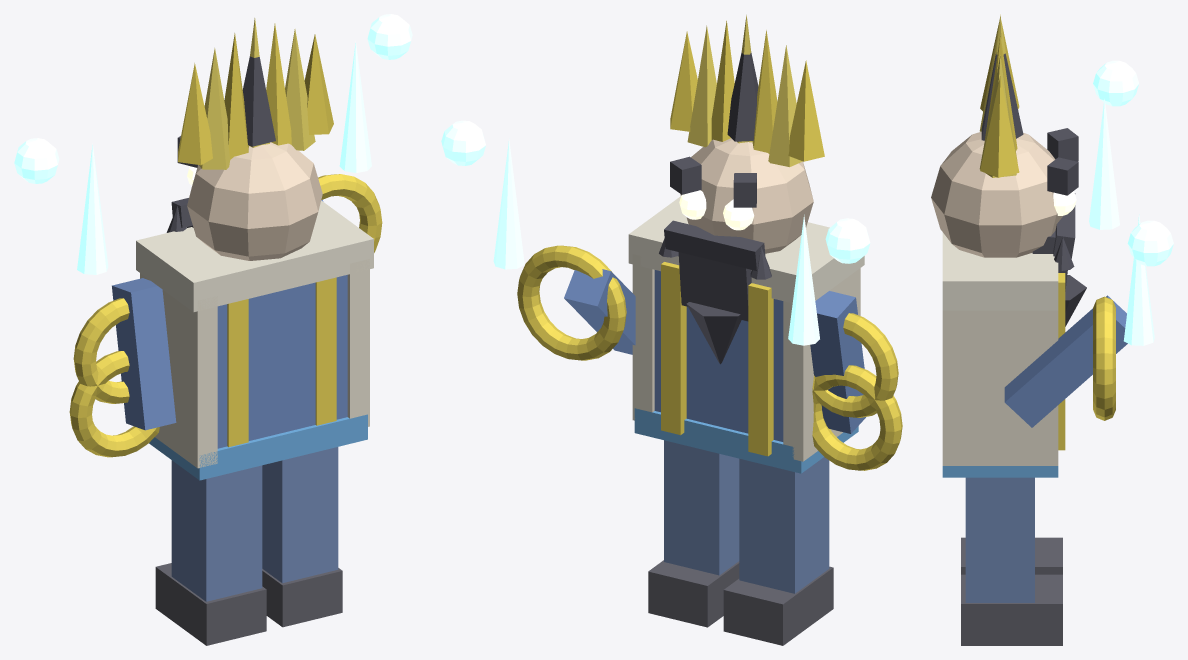
File: hero_electro_wizard.glb
The picture shows the model from 3 angles, left to right: view 1: azimuth 30°, elevation 25°; view 2: azimuth 150°, elevation 25°; view 3: azimuth 270°, elevation 25°; orthographic projection.
Parts seen in each view (by area): view 1: hero_electro_wizard; view 2: hero_electro_wizard; view 3: hero_electro_wizard.
Boxes of the visible parts, x1=… form: hero_electro_wizard: x1=14, y1=14, x2=412, y2=645; hero_electro_wizard: x1=441, y1=15, x2=902, y2=645; hero_electro_wizard: x1=931, y1=14, x2=1173, y2=645.
Bounding box in the file's own units: 2.04 × 2.86 × 1.05.
